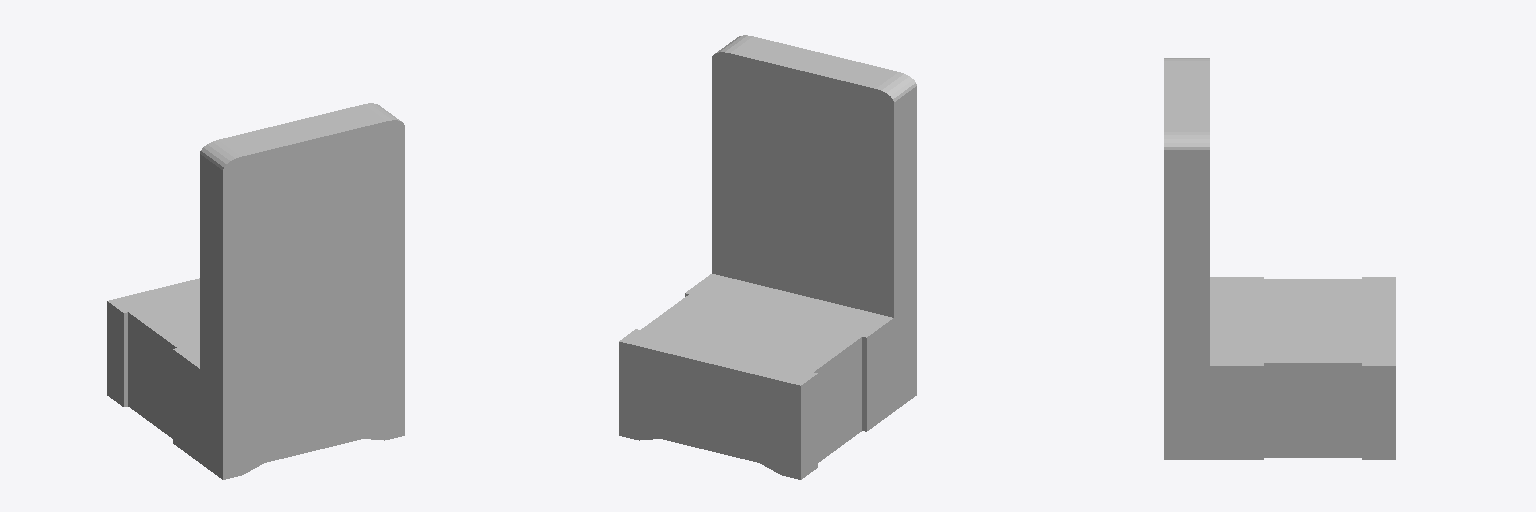
File: chair_frame.obj
The picture shows the model from 3 angles: view 1: azimuth 30°, elevation 25°; view 2: azimuth 150°, elevation 25°; view 3: azimuth 270°, elevation 25°; orthographic projection.
Parts seen in each view (by area): view 1: Cube; view 2: Cube; view 3: Cube.
Part boxes in pixels (left/top/right/bottom): Cube: left=107, top=103, right=404, bottom=479; Cube: left=619, top=35, right=916, bottom=479; Cube: left=1164, top=58, right=1395, bottom=459.
Size of the model in its own units: 3.22 by 5.38 by 3.55.